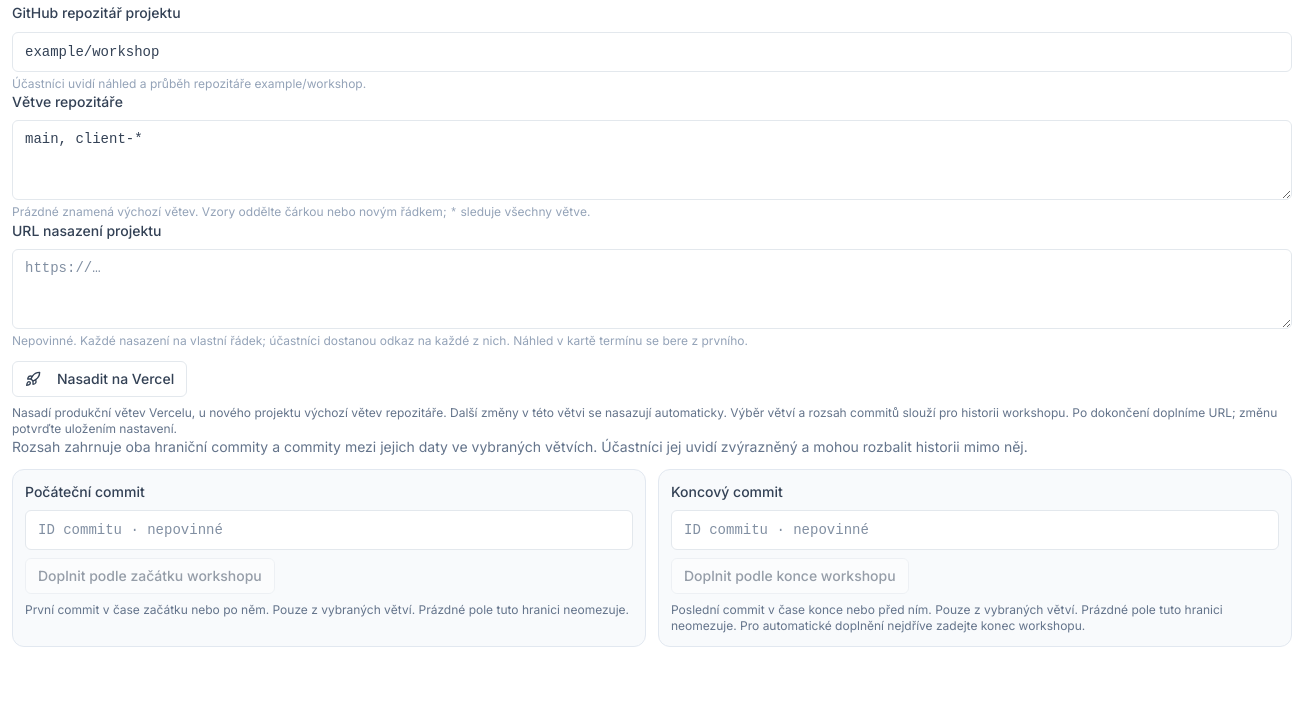
Vercel control in the existing workshop project fields › resumes a build after a status request fails instead of creating another deployment
The width and height of the screenshot is (1304, 720).
Step 1. Click the button "Nasadit na Vercel" → {"x": 100, "y": 379}, box [12, 361, 187, 397]
Wait 3000 ms
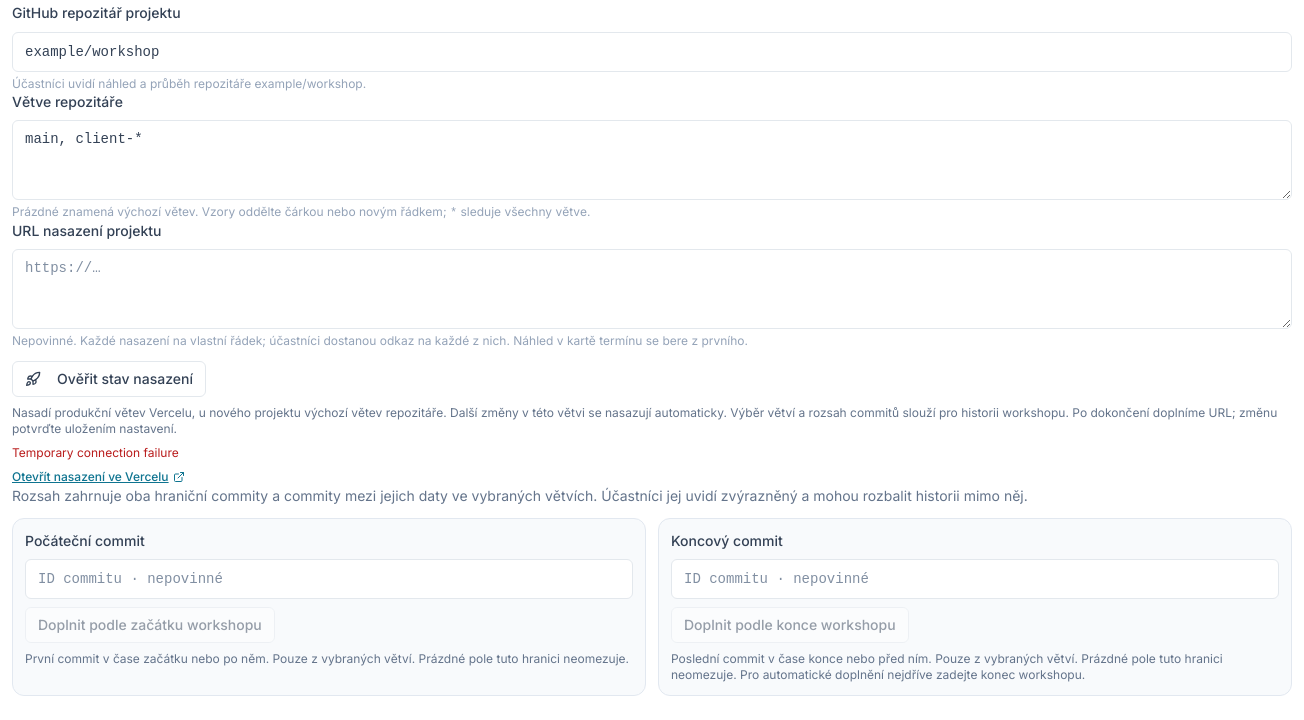
Now the message reads "Temporary connection failure", box [12, 445, 179, 460]
Step 2. Click the button "Ověřit stav nasazení" → {"x": 109, "y": 379}, box [12, 361, 206, 397]
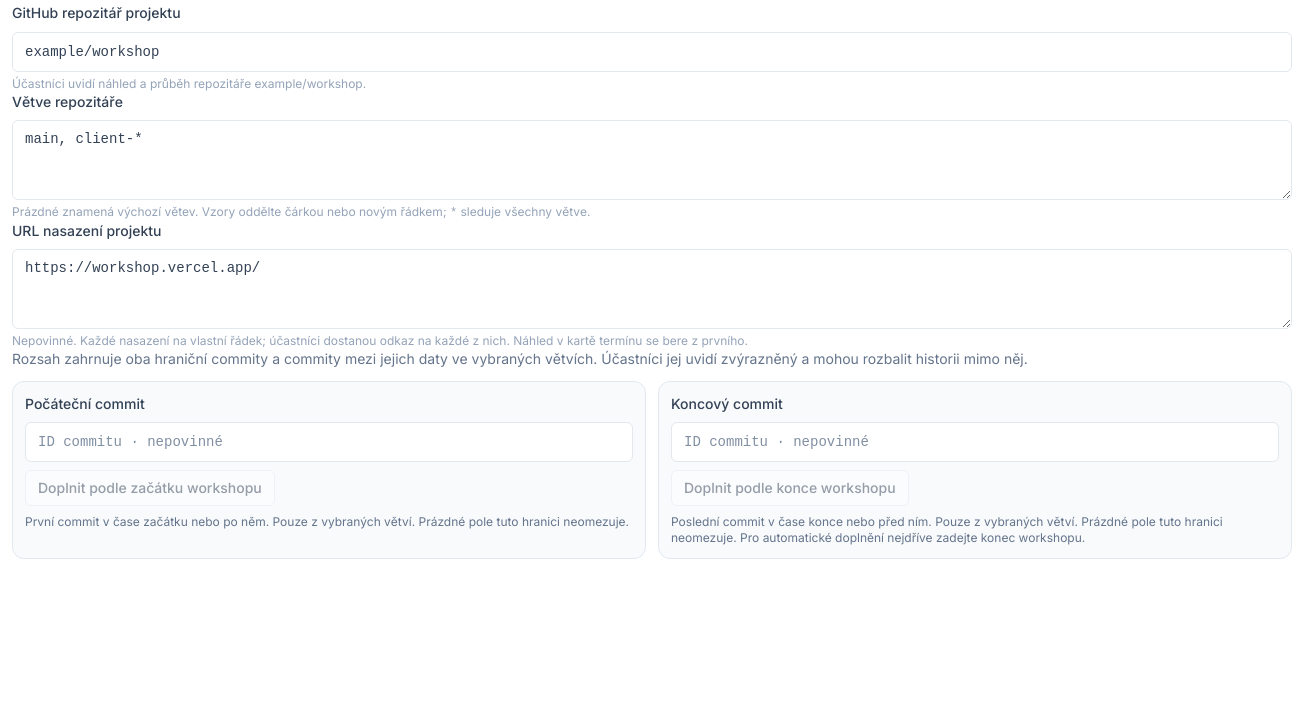
Now the text box labelled "URL nasazení projektu" holds "https://workshop.vercel.app/", box [12, 249, 1292, 329]
